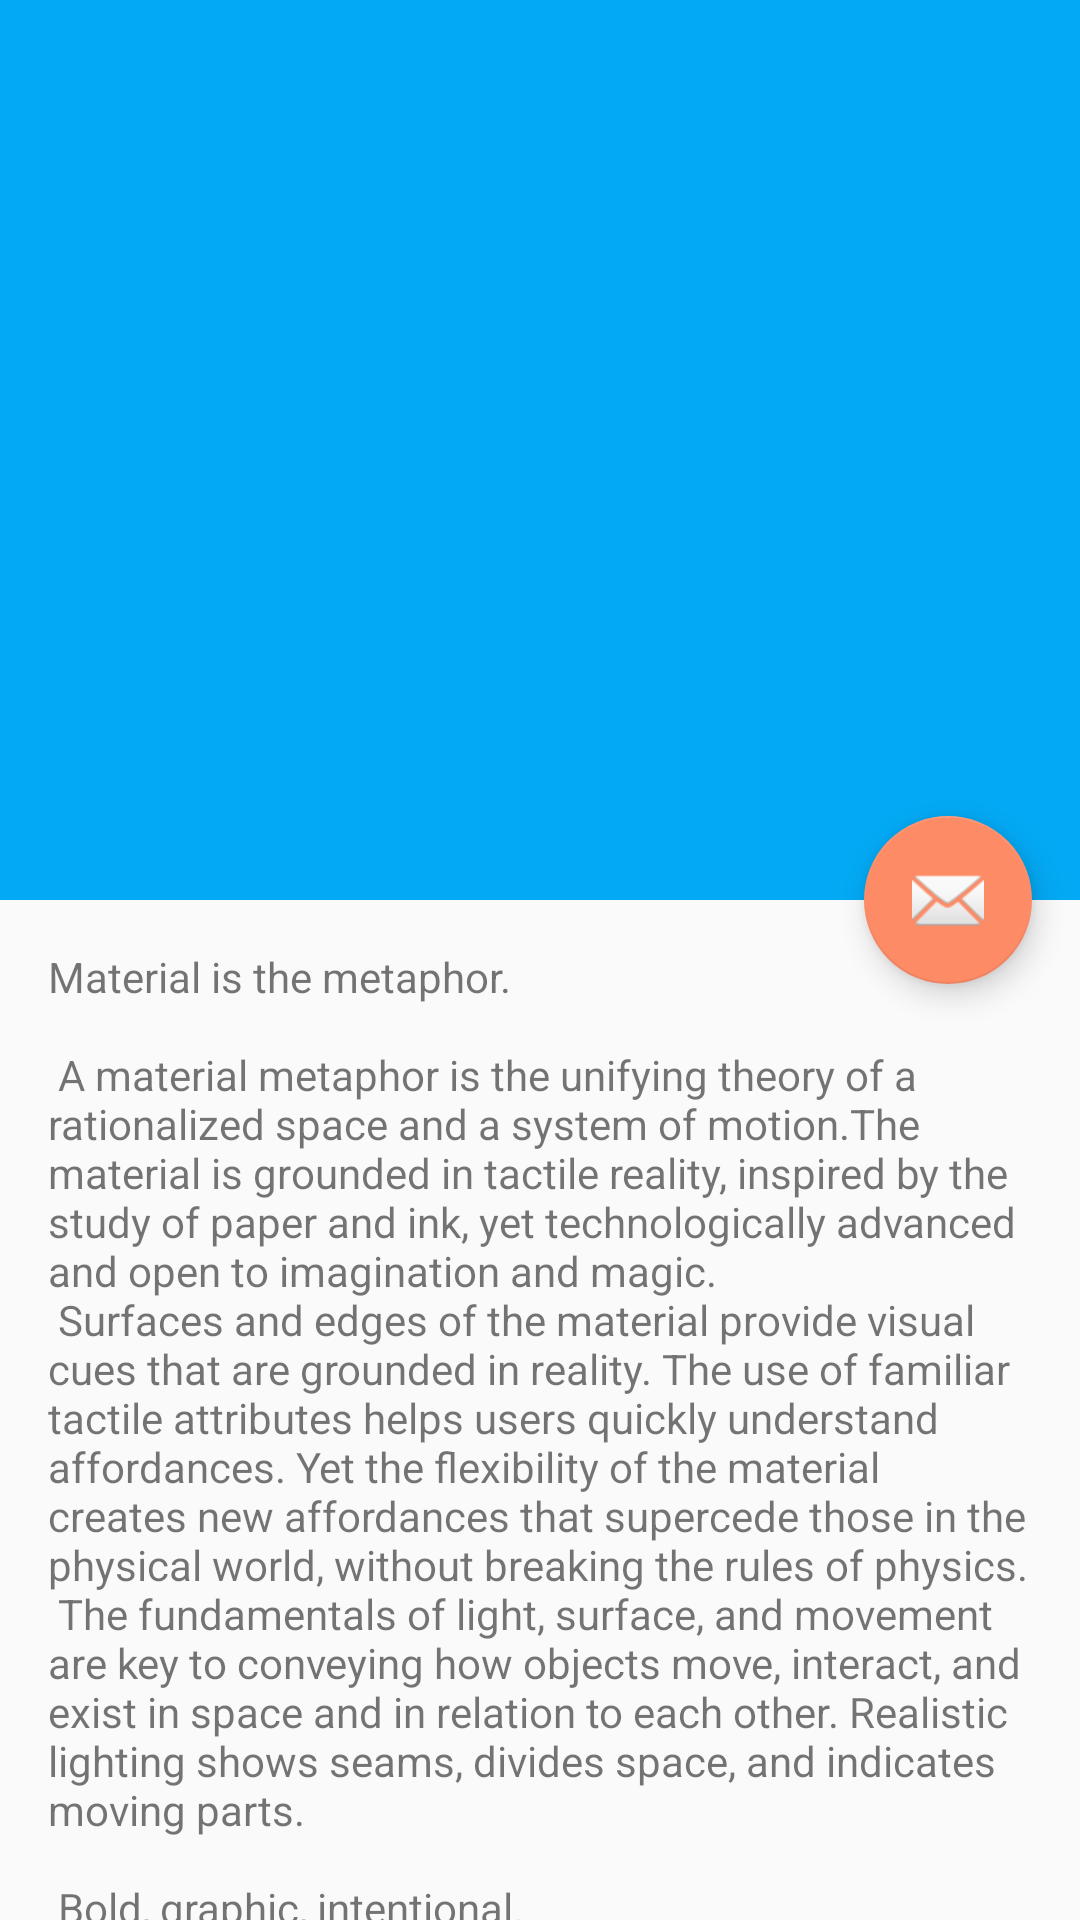

Icons on this 1080px x 1920px Android screen, each with the point to tap as point (x, y):
email: point (948, 900)
